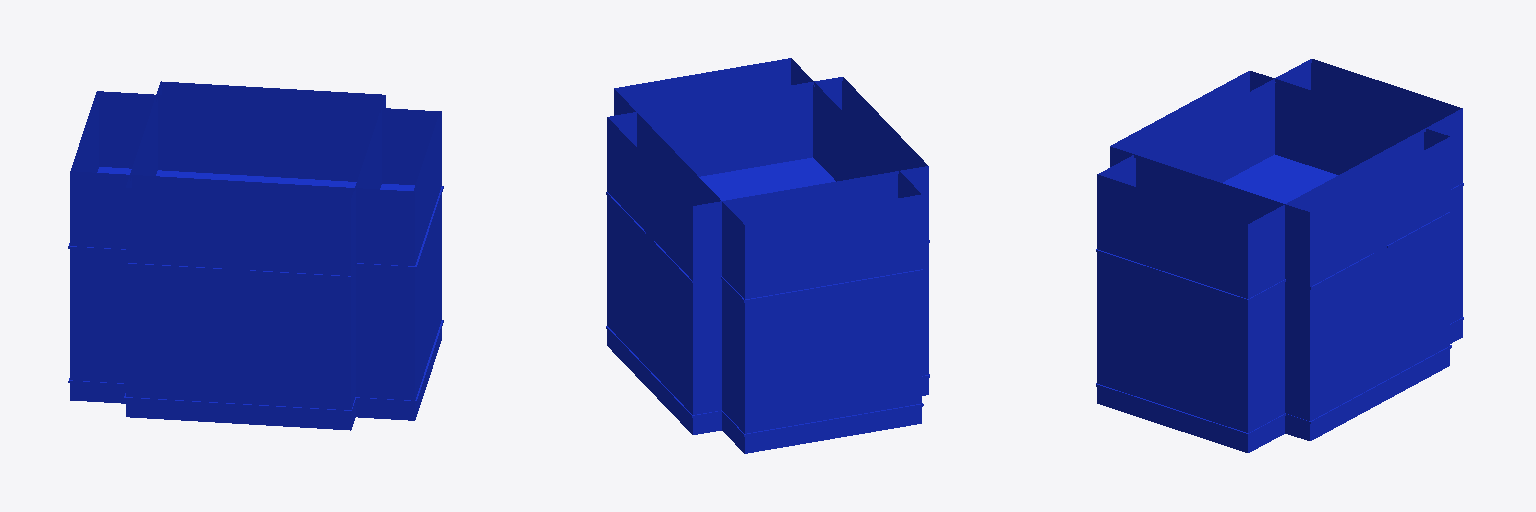
The model's file is syr.obj.
3 views of the same model, side by side, from view 1: azimuth 30°, elevation 25°; view 2: azimuth 150°, elevation 25°; view 3: azimuth 270°, elevation 25° (orthographic).
Parts seen in each view (by area): view 1: syrplan group1; view 2: syrplan group1; view 3: syrplan group1.
Part boxes in pixels (bbox=[...]): syrplan group1: bbox=[68, 81, 443, 430]; syrplan group1: bbox=[606, 58, 929, 453]; syrplan group1: bbox=[1096, 59, 1463, 452].
Size of the model in its own units: 564 by 360 by 525.